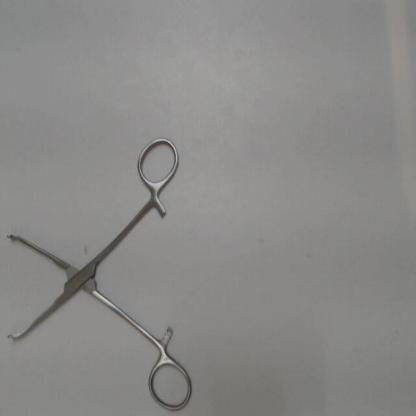Allis Tissue Forceps: (3, 129, 199, 415)
